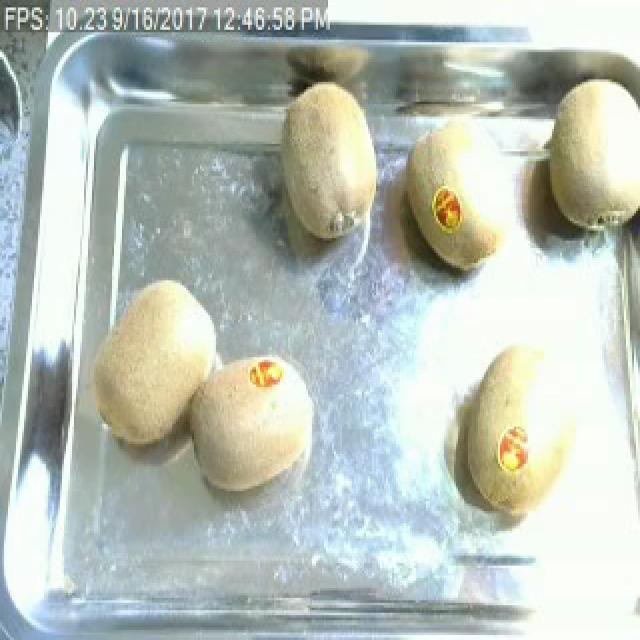Fruit: (74, 268, 230, 461), (442, 327, 592, 526), (374, 109, 534, 280), (176, 349, 324, 504), (270, 74, 390, 248), (530, 62, 640, 246)
